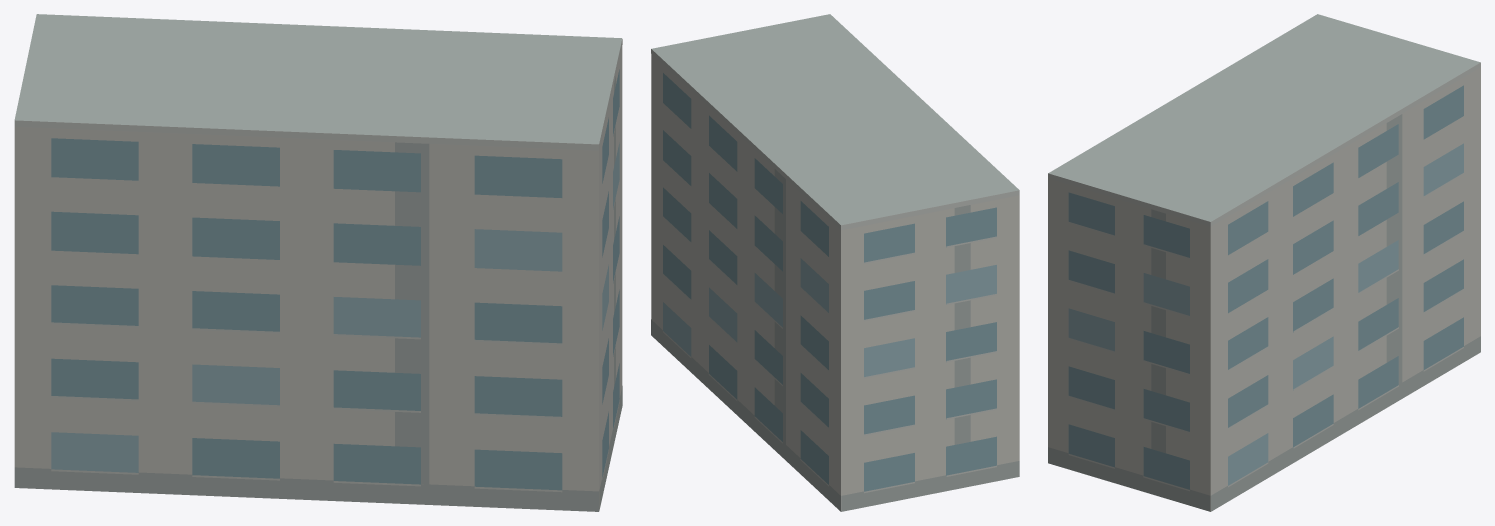
Rendered from survey-upis-32554321.glb.
3 renders of one model, left to right at view 1: azimuth 30°, elevation 25°; view 2: azimuth 150°, elevation 25°; view 3: azimuth 270°, elevation 25°, orthographic. The views are drawn at different scales.
Parts seen in each view (by area): view 1: survey-upis-32554321.tmp; view 2: survey-upis-32554321.tmp; view 3: survey-upis-32554321.tmp.
Part boxes in pixels (x1,y1,x2,y2): survey-upis-32554321.tmp: (14, 14, 622, 511); survey-upis-32554321.tmp: (651, 14, 1019, 511); survey-upis-32554321.tmp: (1048, 14, 1480, 511).
Size of the model in its own units: 21.71 by 14.1 by 19.08.
